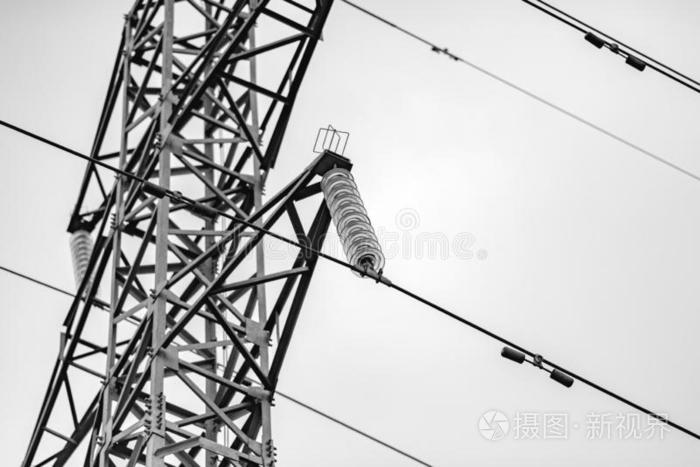insulator: (321, 168, 388, 279), (65, 232, 95, 294)
